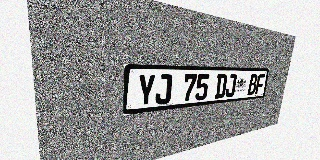5: (195, 74, 210, 101)
7: (182, 74, 197, 102)
B: (247, 74, 258, 95)
D: (214, 74, 228, 99)
F: (255, 74, 265, 94)
J: (155, 74, 172, 105), (225, 74, 237, 98)
Y: (137, 74, 156, 107)
